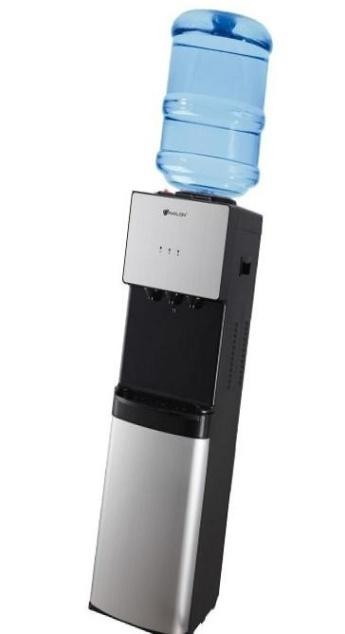Dispenser: (86, 8, 272, 633)
